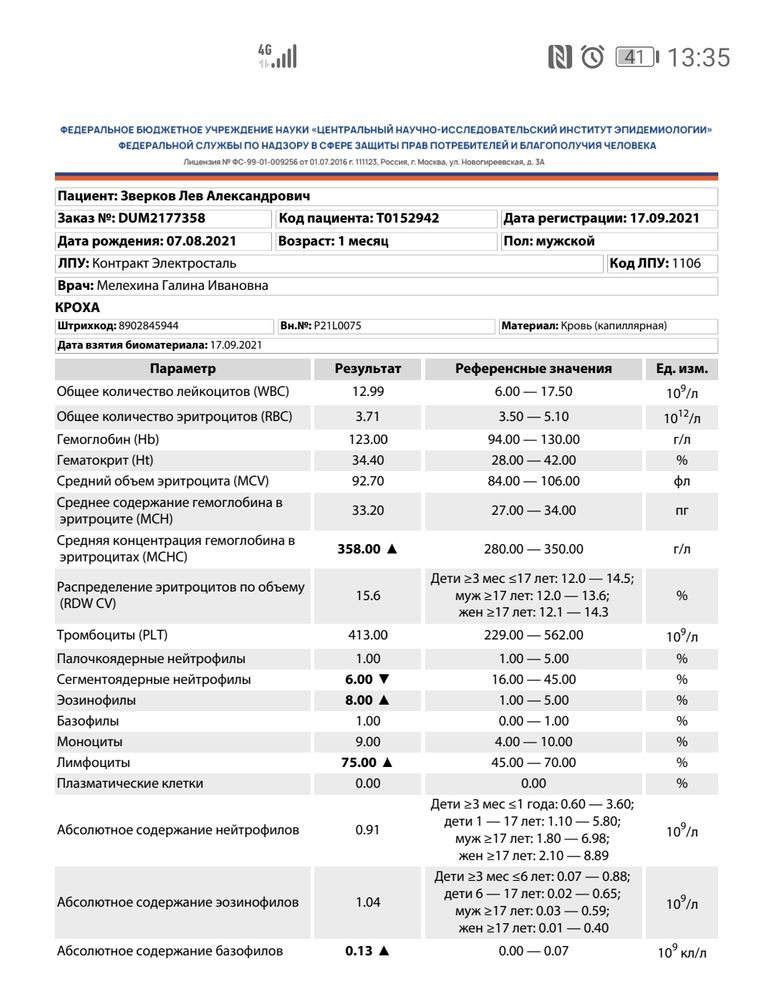column: (56, 358, 305, 963), (429, 358, 635, 963), (334, 358, 402, 963), (656, 358, 708, 963)
